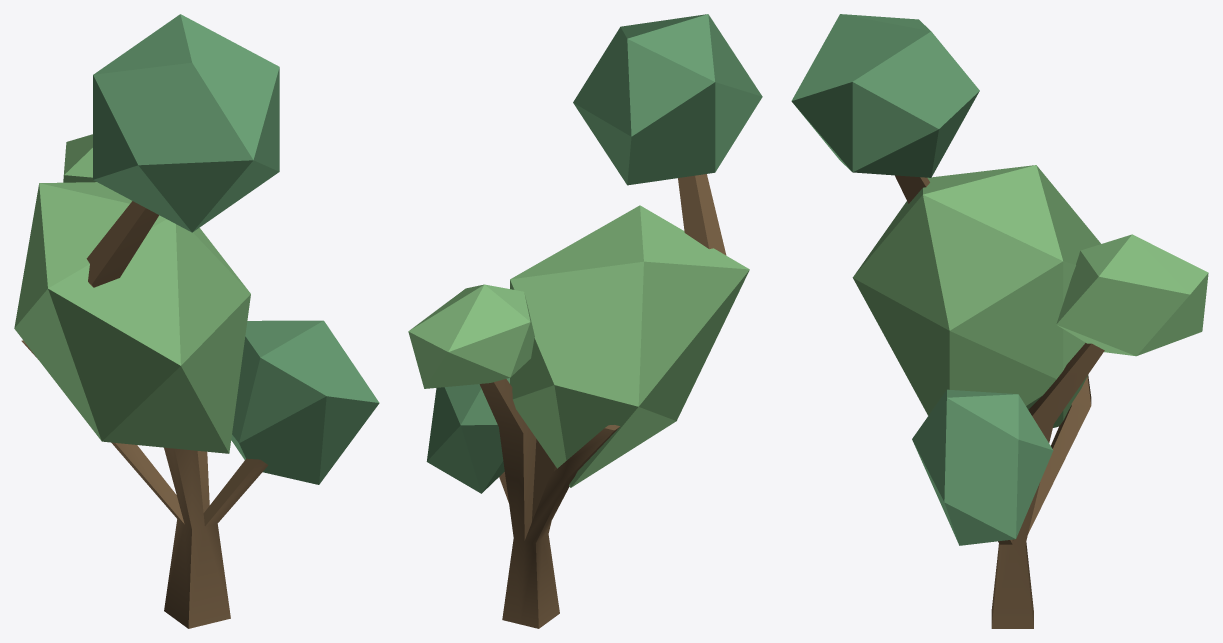
File: bush_1.fbx
The picture shows the model from 3 angles, left to right: view 1: azimuth 30°, elevation 25°; view 2: azimuth 150°, elevation 25°; view 3: azimuth 270°, elevation 25°; orthographic projection. The views are drawn at different scales.
Parts seen in each view (by area): view 1: shrub1, shrub, shrub2, bush_trunk, shrub7; view 2: shrub1, shrub, bush_trunk, shrub7, shrub2; view 3: shrub1, shrub, shrub2, shrub7, bush_trunk.
Boxes of the visible parts, x1,y1,x2,y2 form: shrub1: (14, 182, 250, 453); shrub: (93, 14, 279, 232); shrub2: (231, 320, 379, 484); bush_trunk: (21, 201, 268, 628); shrub7: (63, 134, 96, 182); shrub1: (510, 205, 749, 487); shrub: (573, 14, 762, 185); bush_trunk: (479, 174, 726, 628); shrub7: (408, 284, 534, 388); shrub2: (426, 378, 509, 493); shrub1: (852, 165, 1100, 427); shrub: (791, 14, 979, 177); shrub2: (912, 389, 1053, 545); shrub7: (1056, 234, 1208, 356); bush_trunk: (895, 175, 1104, 628).
Bounding box in the file's own units: 52.16 × 94.3 × 63.48.
